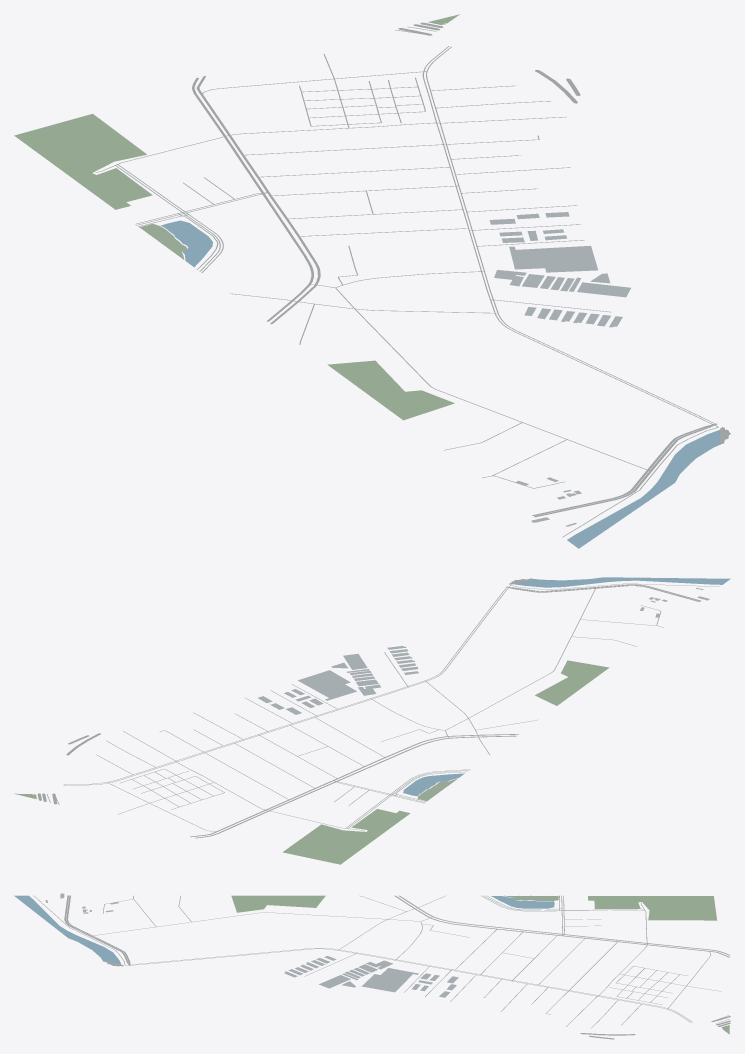
The model's file is overview-known--4_7.glb.
3 renders of one model, top to bottom at view 1: azimuth 30°, elevation 25°; view 2: azimuth 150°, elevation 25°; view 3: azimuth 270°, elevation 25°, orthographic. The views are drawn at different scales.
Size of the model in its own units: 1426 by 0.8201 by 2959.
